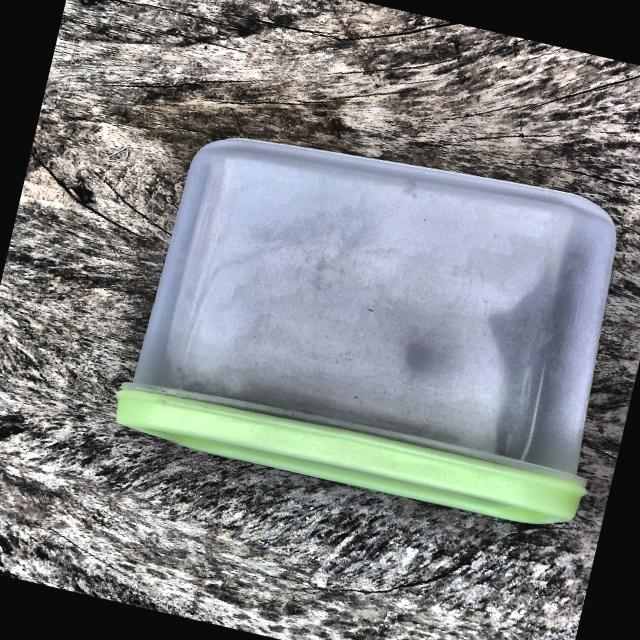plastic container: (91, 84, 640, 547)
